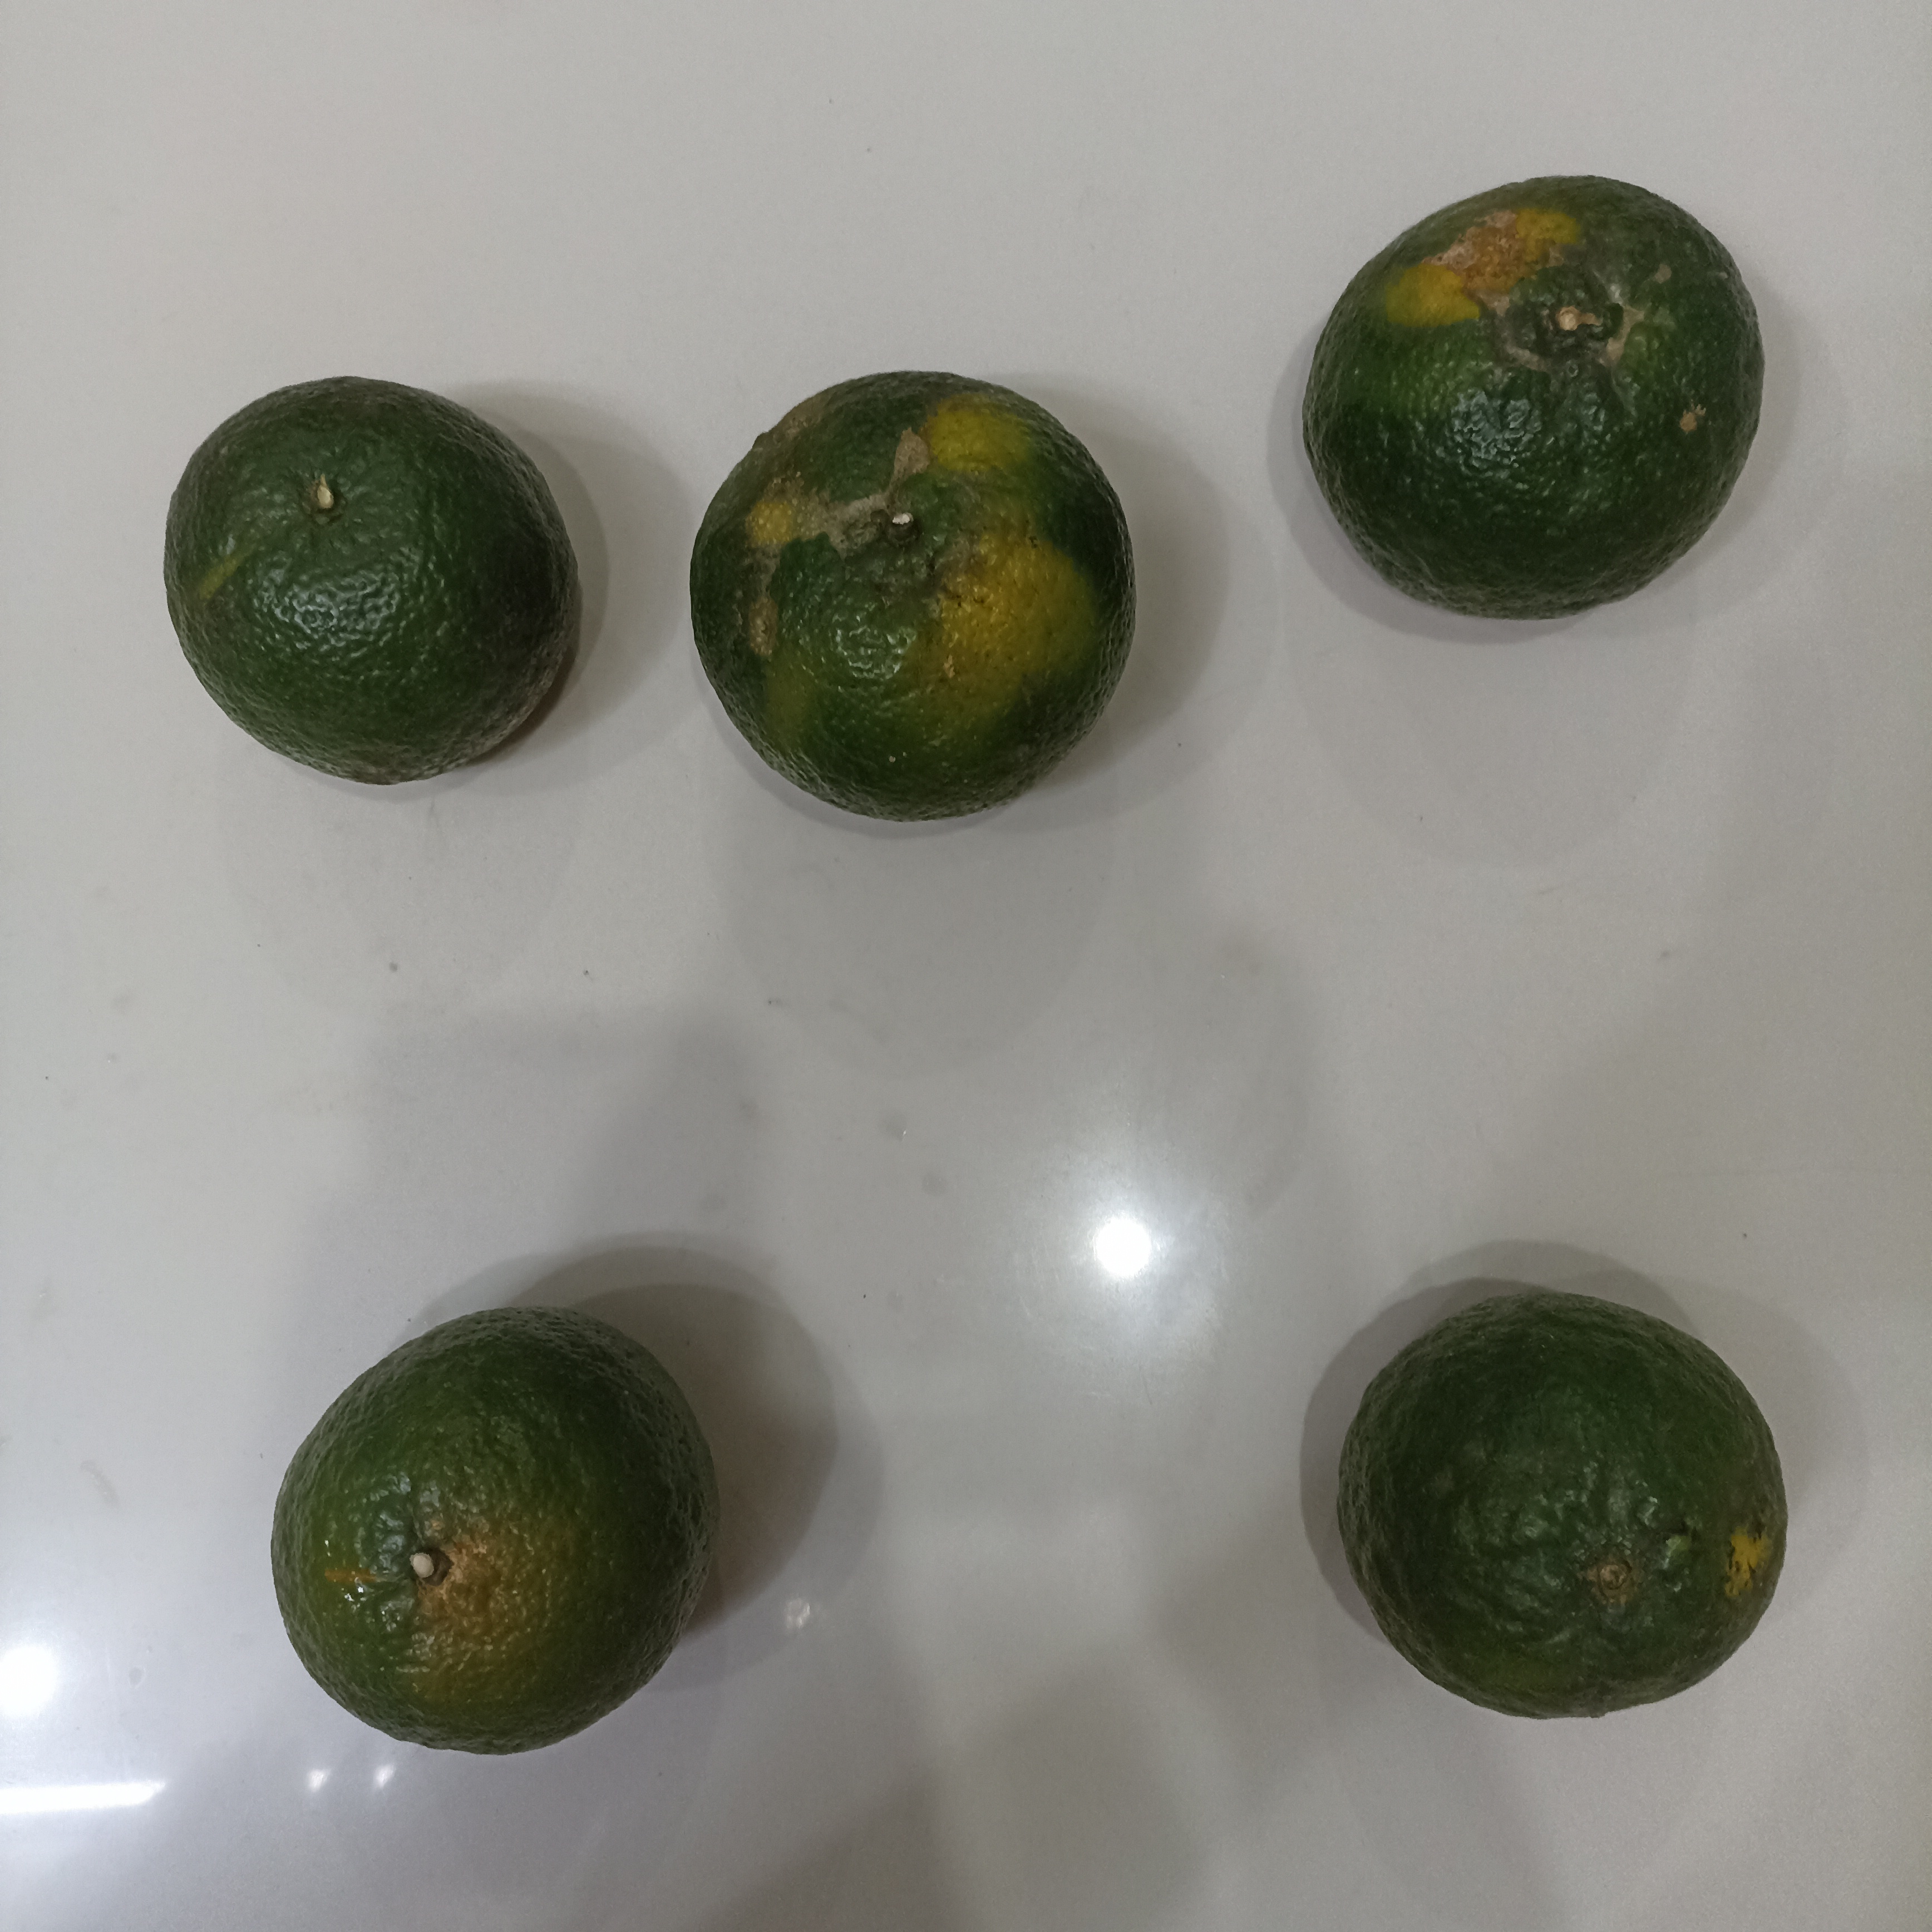Cam: (1304, 172, 1762, 625), (269, 1306, 722, 1760), (686, 373, 1138, 824), (1336, 1286, 1787, 1725), (163, 375, 577, 787)
